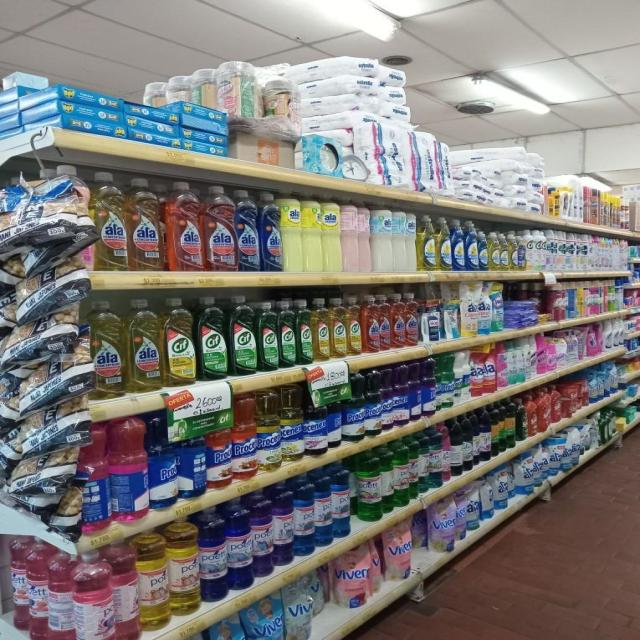ala_conc_amarillo: (128, 176, 164, 272), (126, 298, 162, 392), (93, 299, 125, 399), (95, 171, 127, 271)
ala_conc_azul: (236, 189, 259, 272), (260, 191, 282, 272)
ala_conc_rojo: (167, 181, 203, 272), (203, 185, 236, 272), (362, 294, 378, 354), (391, 293, 405, 349), (406, 292, 419, 346), (379, 294, 391, 352)
ala_crem_amarillo: (282, 191, 302, 272), (322, 195, 341, 272)
cif_conc_bot_amarilla: (164, 296, 196, 387), (313, 297, 329, 363), (330, 296, 346, 358), (347, 296, 361, 356)
cif_conc_botella_verde: (197, 295, 227, 381), (229, 295, 256, 375), (257, 300, 278, 371), (278, 299, 294, 368), (296, 298, 312, 365)
magistral_con_amarillo: (418, 214, 436, 272), (437, 217, 451, 271), (509, 230, 523, 270), (489, 230, 502, 270), (497, 231, 508, 271)
magistral_con_azul: (452, 219, 464, 271), (466, 220, 478, 271), (478, 223, 488, 271)
